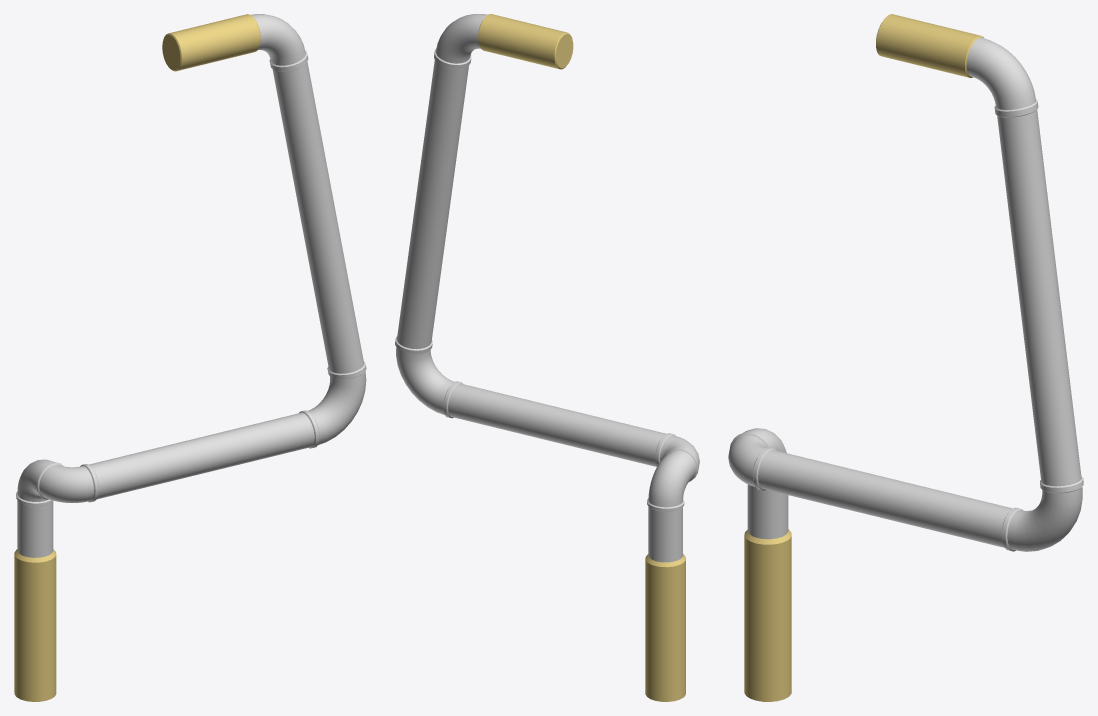
Rendered from SP_House09_Pipe05.fbx.
The picture shows the model from 3 angles, left to right: view 1: azimuth 30°, elevation 25°; view 2: azimuth 150°, elevation 25°; view 3: azimuth 330°, elevation 25°; orthographic projection. The views are drawn at different scales.
Visible parts, largest first — view 1: SP_House09_Pipe05; view 2: SP_House09_Pipe05; view 3: SP_House09_Pipe05.
Part boxes in pixels (bbox=[...]): SP_House09_Pipe05: bbox=[14, 14, 366, 701]; SP_House09_Pipe05: bbox=[395, 14, 699, 701]; SP_House09_Pipe05: bbox=[728, 14, 1083, 701].
Size of the model in its own units: 6.27 by 11.93 by 1.6.
